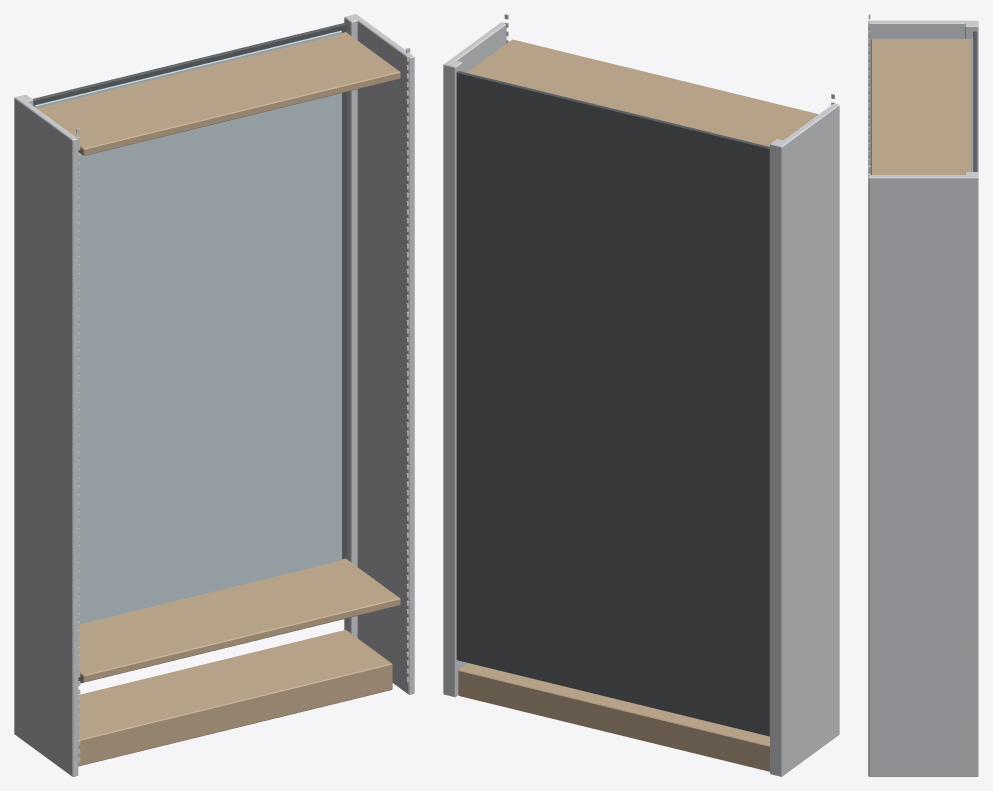
The picture shows the model from 3 angles, left to right: view 1: azimuth 30°, elevation 25°; view 2: azimuth 150°, elevation 25°; view 3: azimuth 270°, elevation 25°; orthographic projection. The views are drawn at different scales.
Visible parts, largest first — view 1: wall-bay-mirrored; view 2: wall-bay-mirrored; view 3: wall-bay-mirrored.
Part boxes in pixels (x1=…): wall-bay-mirrored: x1=14, y1=14, x2=414, y2=776; wall-bay-mirrored: x1=443, y1=14, x2=839, y2=776; wall-bay-mirrored: x1=868, y1=14, x2=978, y2=776.
Size of the model in its own units: 1.35 by 2.43 by 0.3999.
